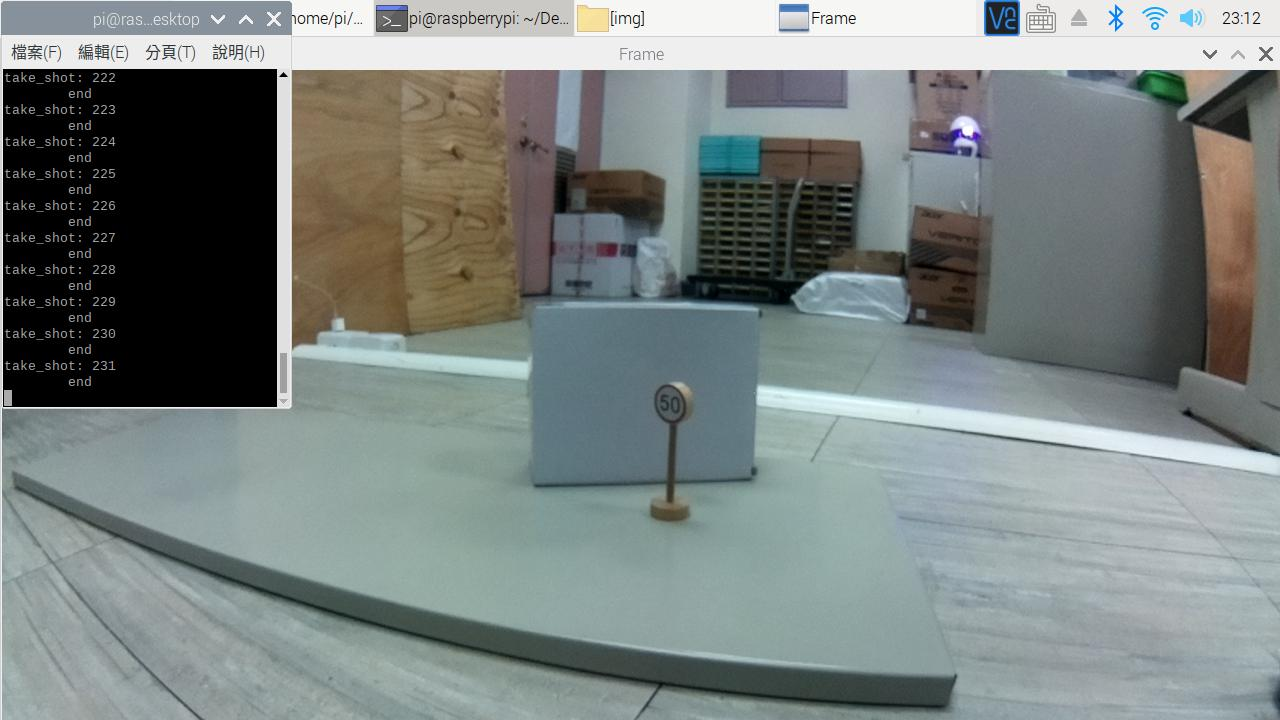Speed50: (643, 369, 705, 442)
